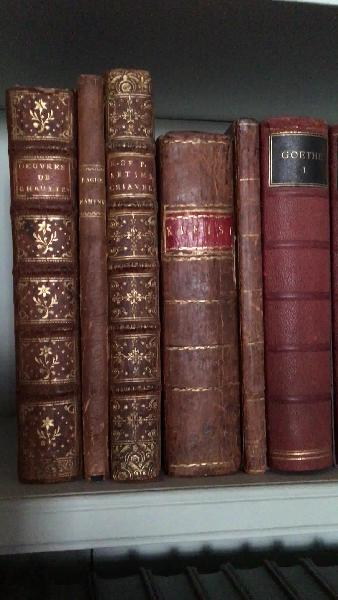Aa6-10: (228, 117, 271, 482)
Aa6-6: (8, 86, 79, 492)
Aa6-7: (71, 73, 107, 482)
Aa6-8: (98, 59, 165, 484)
Aa6-9: (154, 126, 241, 482)
